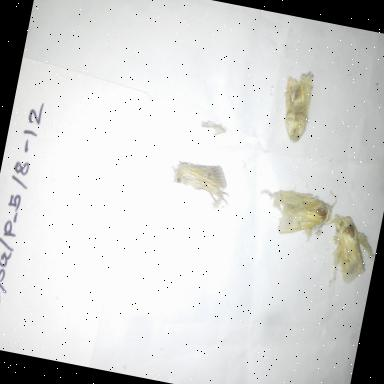abw: (260, 176, 340, 249), (320, 209, 382, 295), (268, 57, 324, 150), (164, 152, 238, 213)
